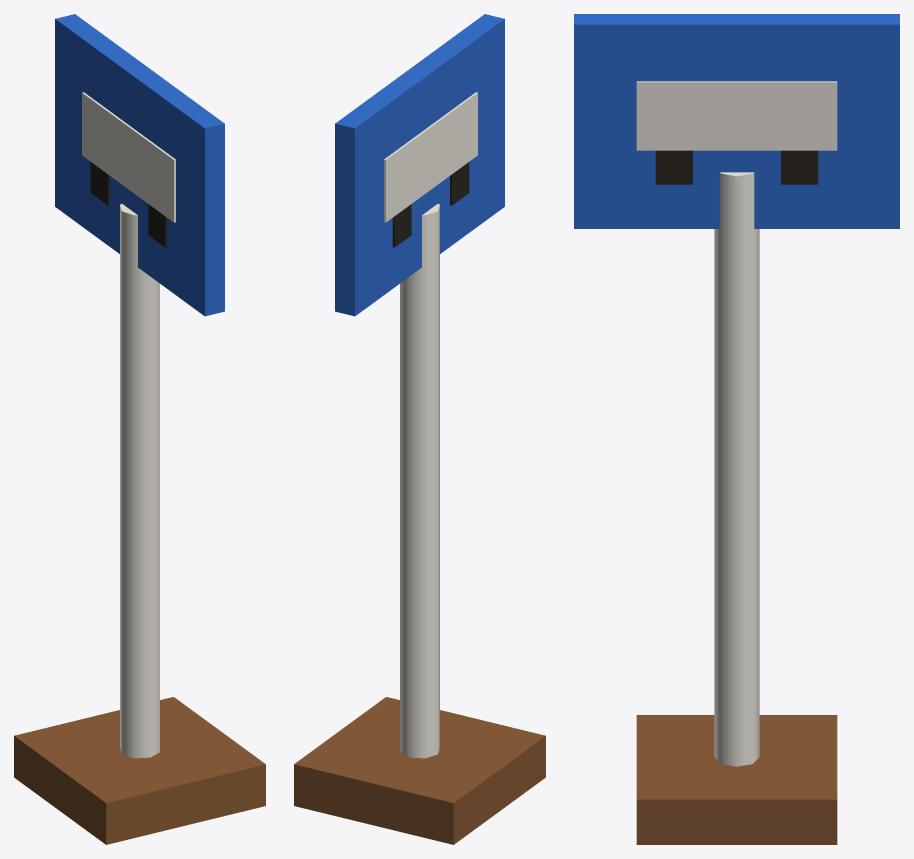
File: car-sidings.glb
The picture shows the model from 3 angles, left to right: view 1: azimuth 30°, elevation 25°; view 2: azimuth 150°, elevation 25°; view 3: azimuth 270°, elevation 25°; orthographic projection. The views are drawn at different scales.
Parts seen in each view (by area): view 1: blue, white, darkWood, black; view 2: blue, white, darkWood, black; view 3: blue, white, darkWood, black.
Boxes of the visible parts, x1=… form: blue: x1=55, y1=14, x2=224, y2=316; white: x1=82, y1=92, x2=175, y2=758; darkWood: x1=14, y1=697, x2=265, y2=844; black: x1=90, y1=162, x2=167, y2=247; blue: x1=335, y1=14, x2=504, y2=316; white: x1=384, y1=92, x2=477, y2=758; darkWood: x1=294, y1=697, x2=545, y2=844; black: x1=392, y1=162, x2=469, y2=247; blue: x1=574, y1=14, x2=899, y2=228; white: x1=636, y1=81, x2=837, y2=766; darkWood: x1=636, y1=715, x2=837, y2=844; black: x1=655, y1=150, x2=818, y2=184.
Size of the model in its own units: 16 by 69 by 26.
